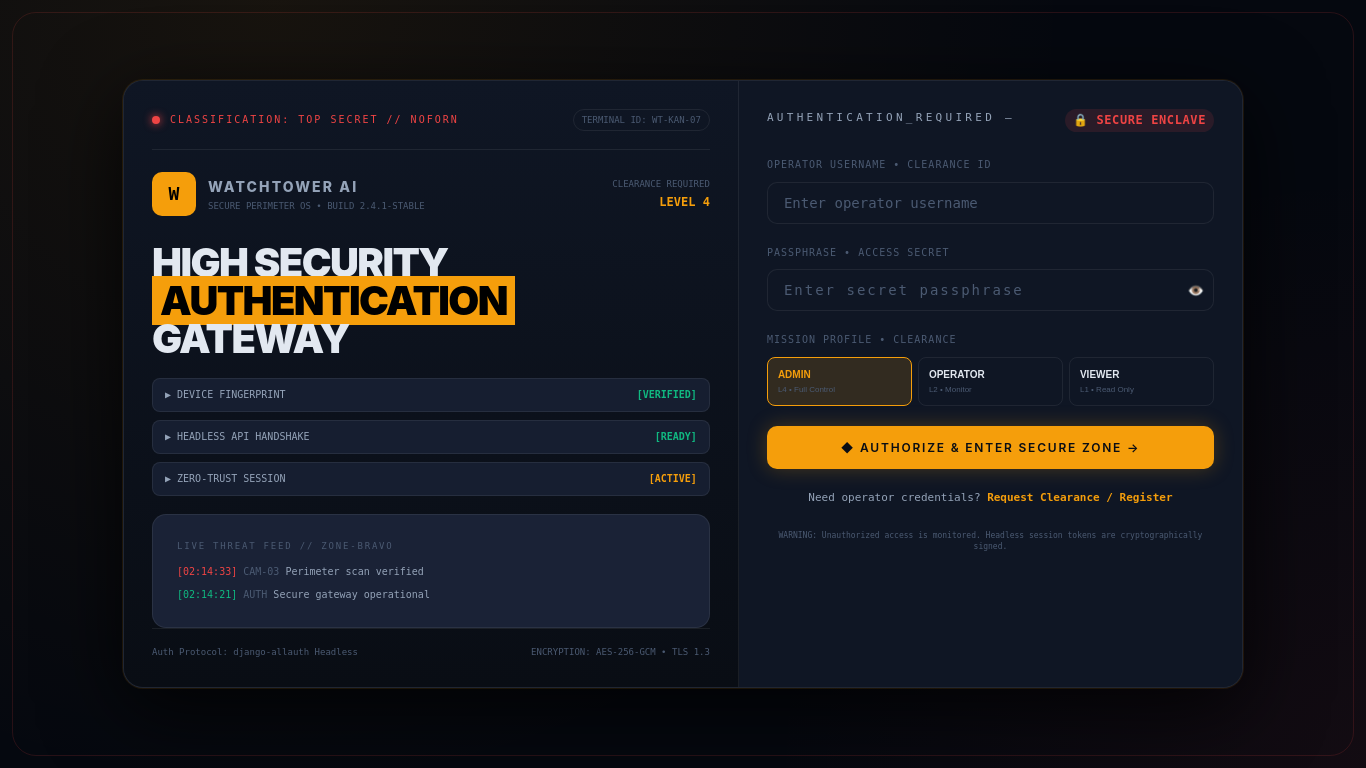
Test: Auth Integration Tests (MSW + React Testing Library) › Scenario 1: Login success — redirects to dashboard and stores session token
Type "abuzar" into the field with test id "login-username-input" at point(990, 203), box [767, 182, 1214, 224]
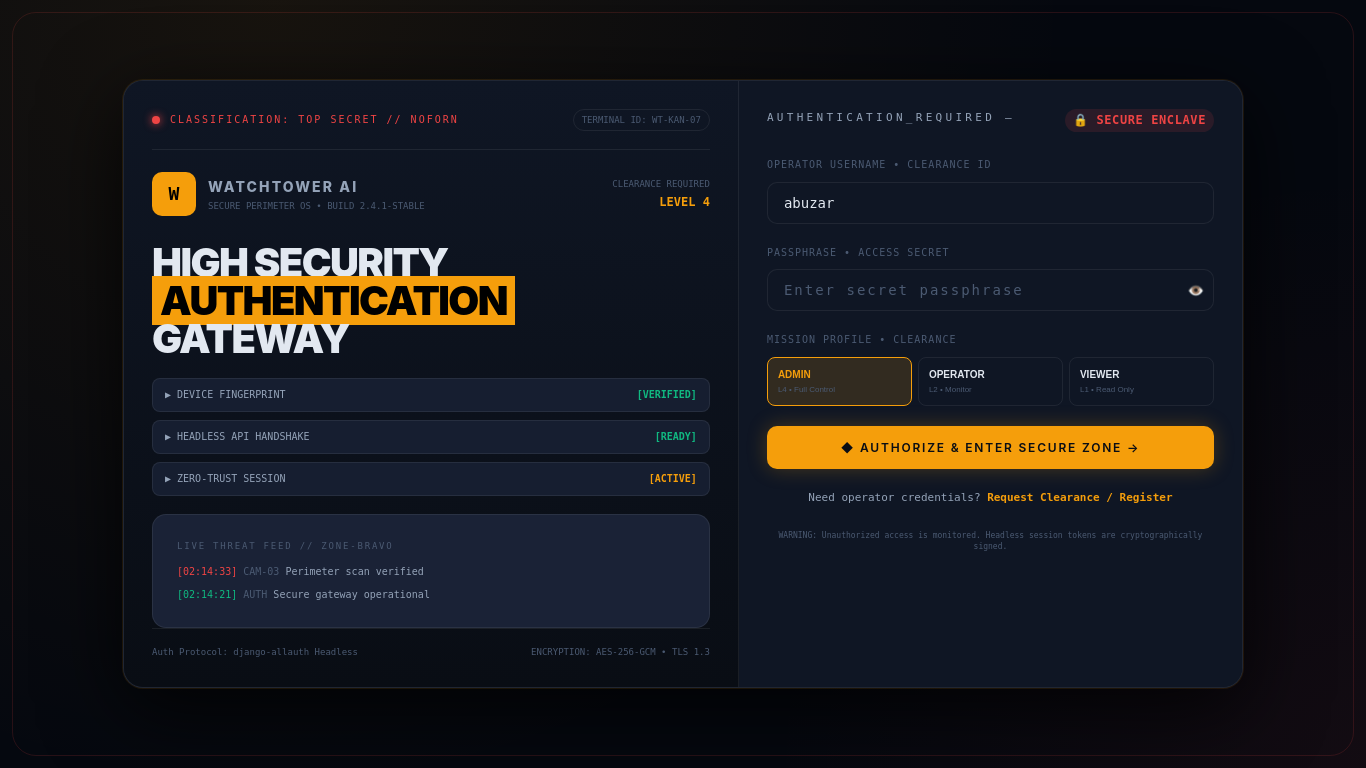
Type "StrongPass123!" into the password field with test id "login-password-input" at point(990, 290), box [767, 269, 1214, 311]
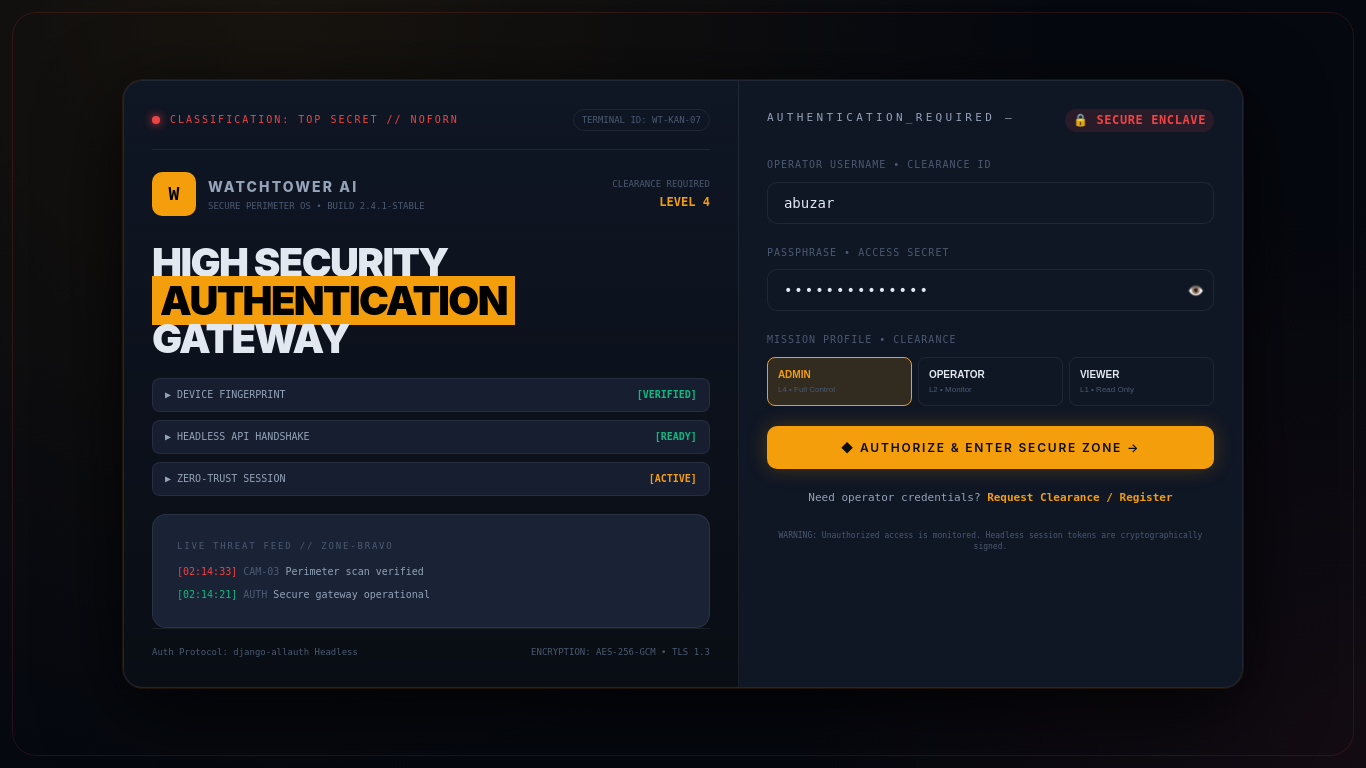
Click the button with test id "login-submit-button" at point(990, 447), box [767, 426, 1214, 468]
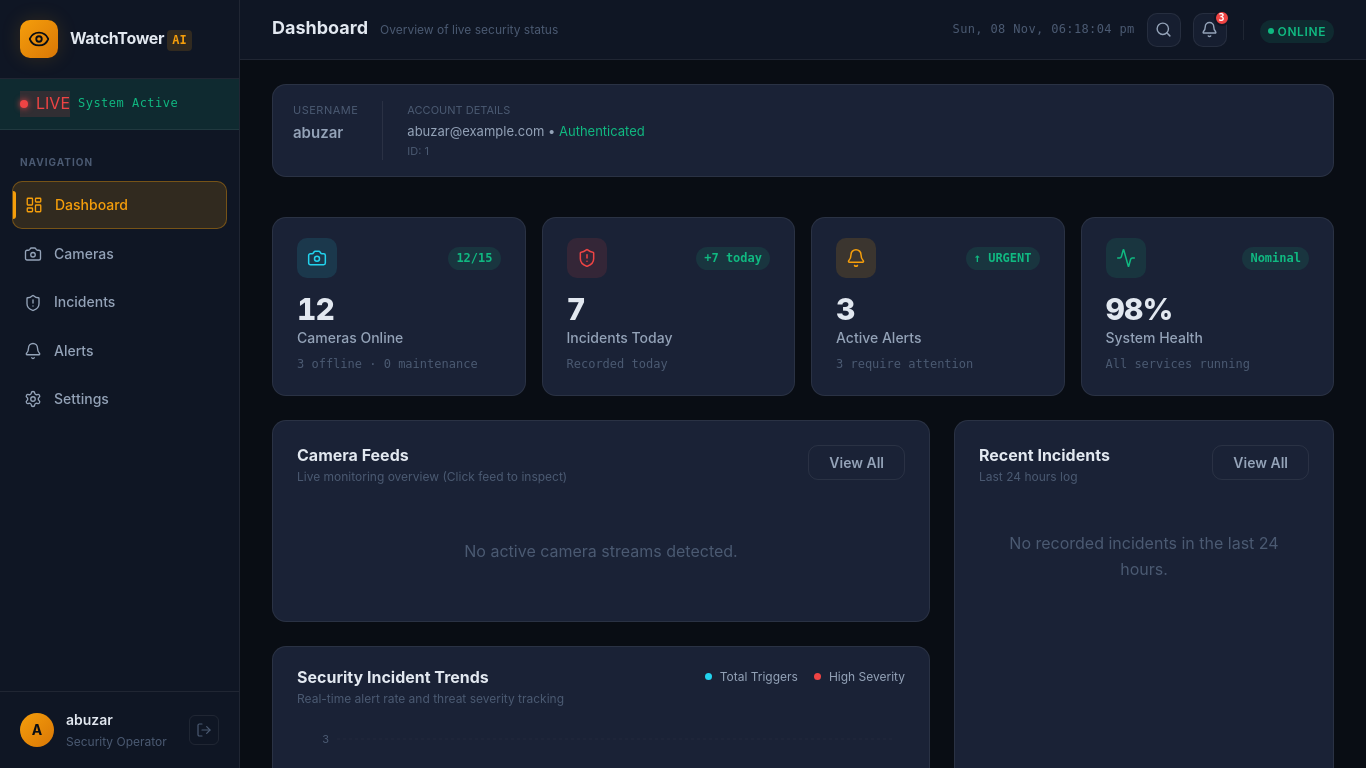
Expected: the heading "Camera Feeds" is shown, [297, 445, 409, 465]
Expected: the text "abuzar" below "Settings" is shown, [66, 711, 113, 728]
